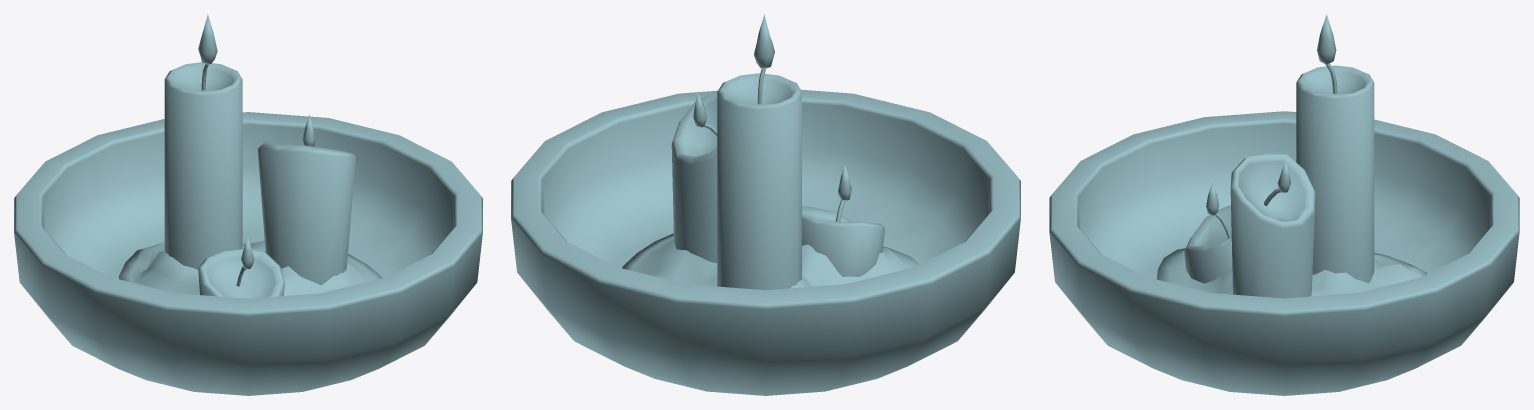
The model's file is HalloweenRoomA_CandleA.fbx.
The picture shows the model from 3 angles, left to right: view 1: azimuth 30°, elevation 25°; view 2: azimuth 150°, elevation 25°; view 3: azimuth 270°, elevation 25°; orthographic projection. The views are drawn at different scales.
Visible parts, largest first — view 1: HalloweenRoomA_CandleA; view 2: HalloweenRoomA_CandleA; view 3: HalloweenRoomA_CandleA.
Part boxes in pixels (bbox=[...]): HalloweenRoomA_CandleA: bbox=[14, 14, 482, 395]; HalloweenRoomA_CandleA: bbox=[511, 14, 1020, 395]; HalloweenRoomA_CandleA: bbox=[1049, 14, 1519, 395].
Size of the model in its own units: 25.55 by 18.01 by 25.16.
